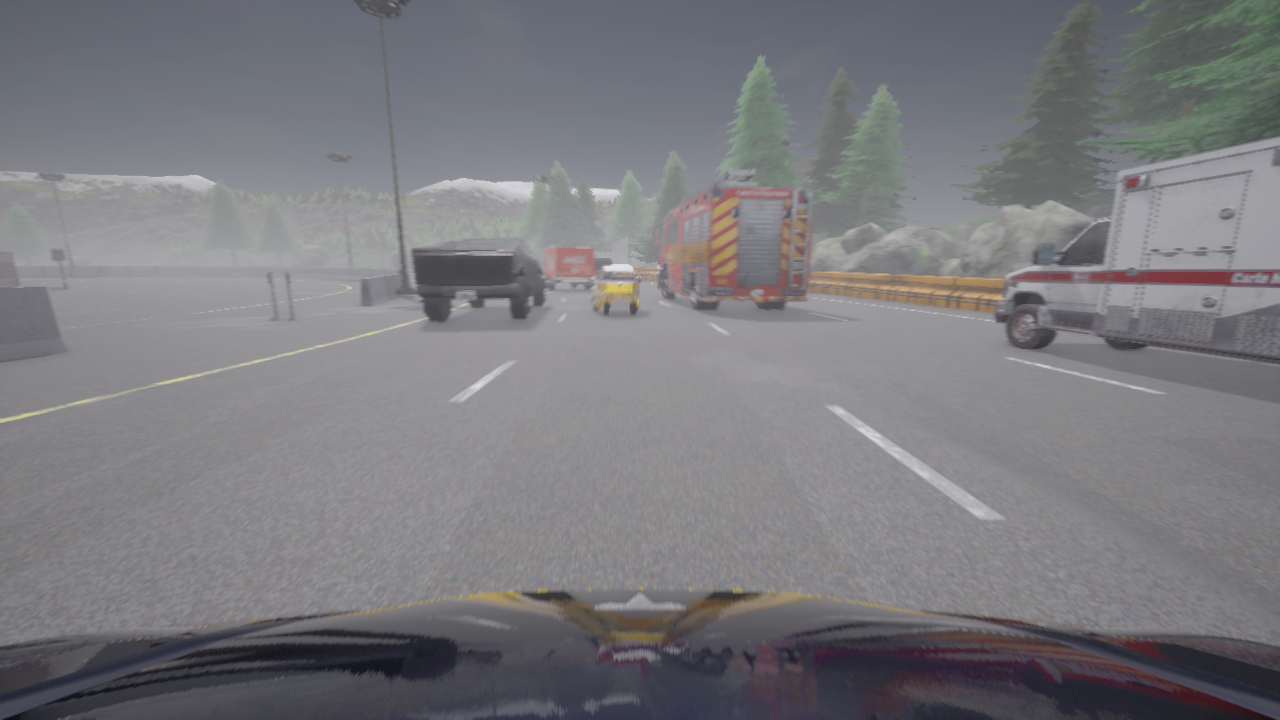cyclist: (0, 588, 1279, 719), (995, 137, 1279, 362), (653, 169, 811, 310), (411, 238, 546, 320), (591, 264, 640, 315), (537, 246, 594, 289), (578, 259, 611, 285)
